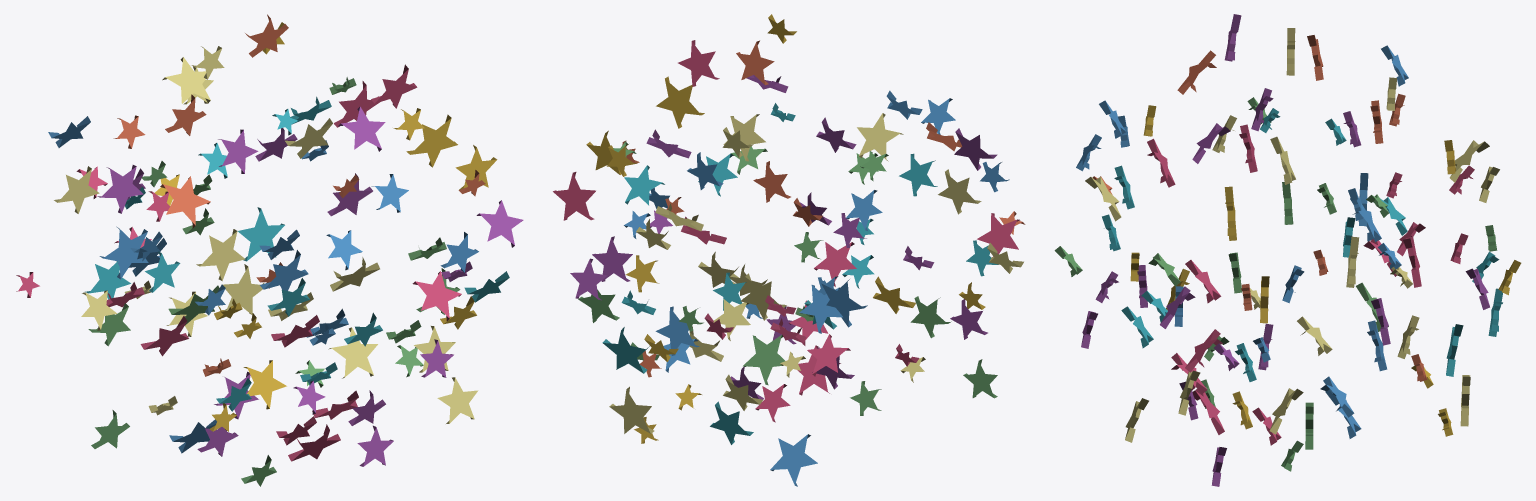
Rendered from stardust.glb.
The picture shows the model from 3 angles, left to right: view 1: azimuth 30°, elevation 25°; view 2: azimuth 150°, elevation 25°; view 3: azimuth 270°, elevation 25°; orthographic projection. The views are drawn at different scales.
Bounding box in the file's own units: 4.43 × 4.25 × 4.19.
